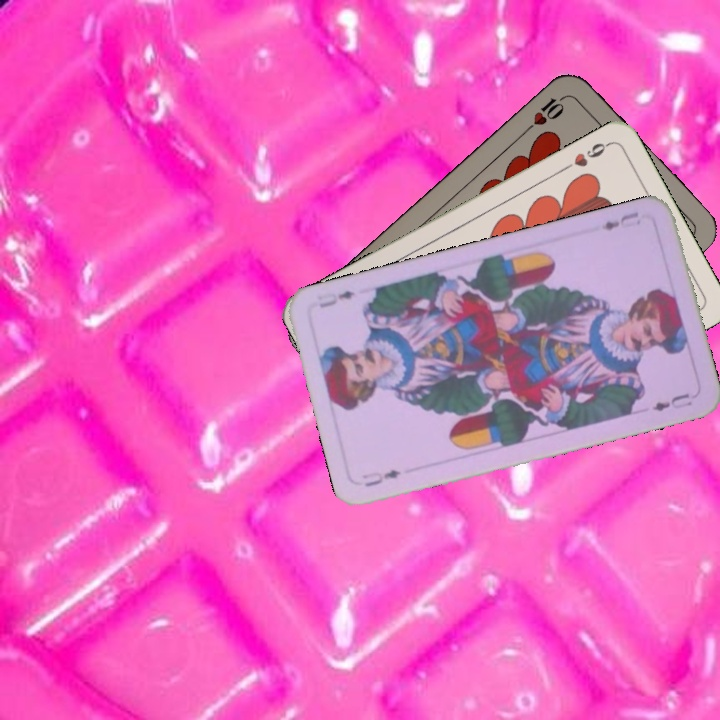EU: (597, 207, 641, 233), (358, 465, 403, 489)
H10: (522, 90, 571, 135)
H9: (559, 138, 613, 174)
